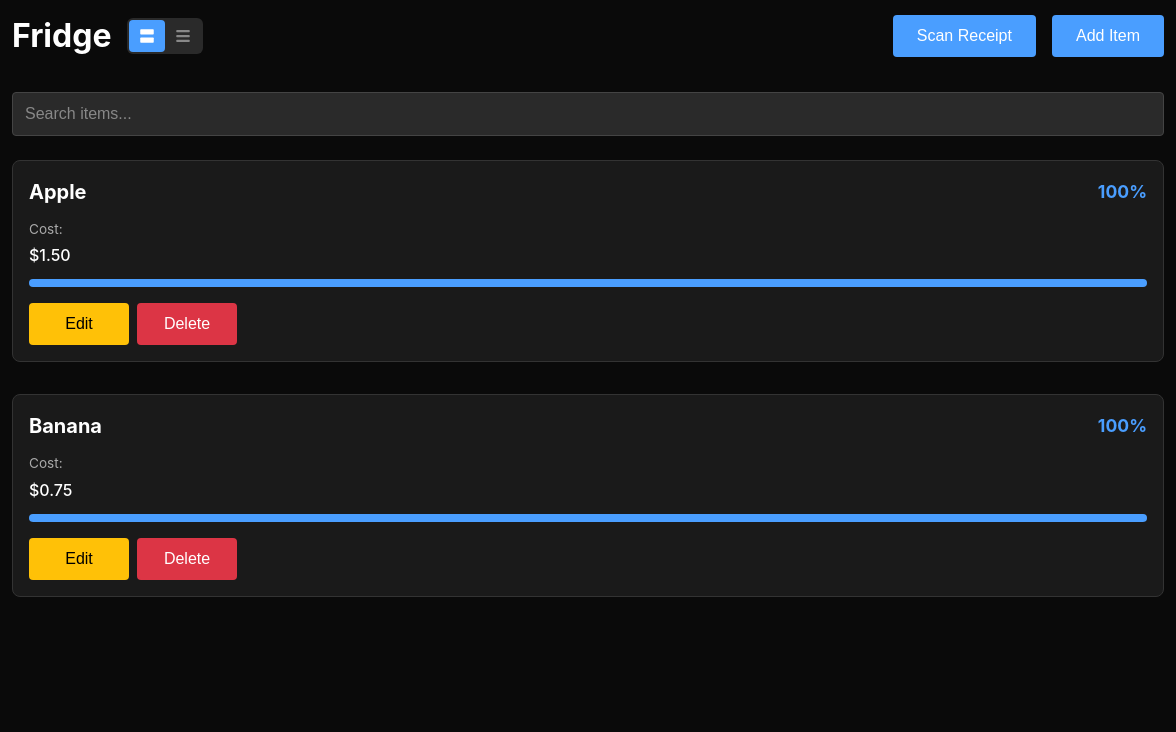
Fridge › should clear search and show all items
Expected: the heading "Apple" is shown, [29,177,86,207]
Expected: the heading "Banana" is shown, [29,411,102,441]
Step 1. Type "Apple" into the field with placeholder "Search items..." → (588, 114), box [12,92,1164,136]
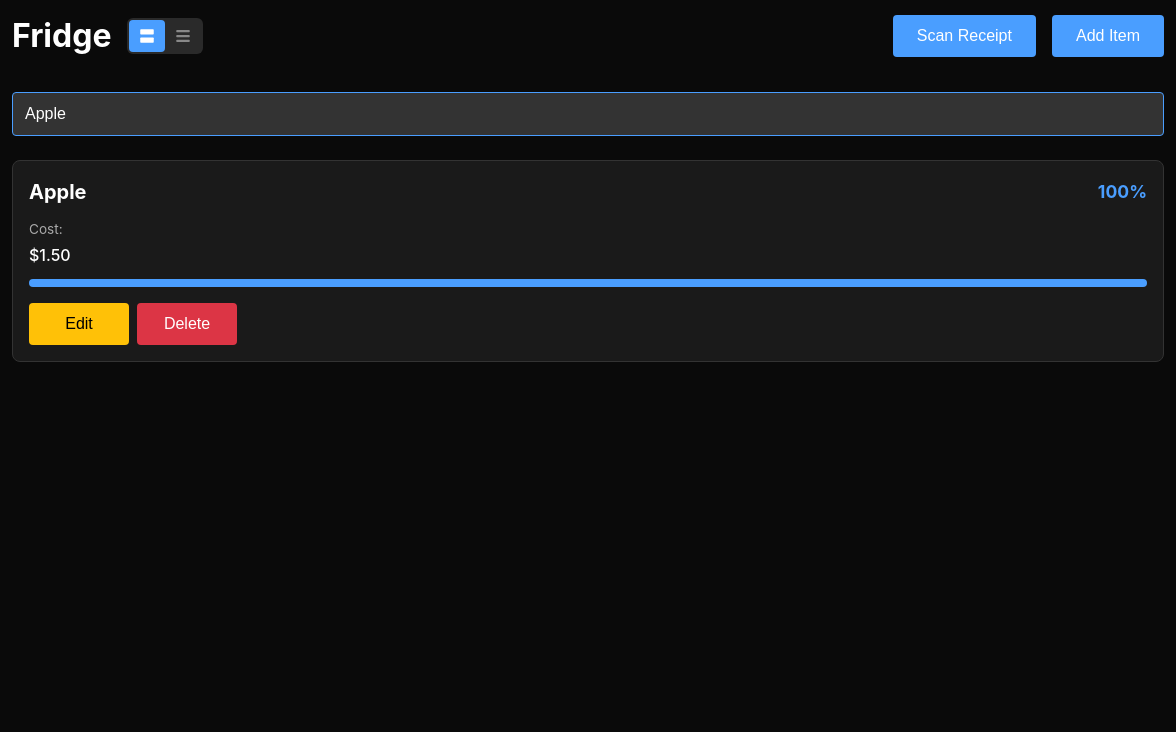
Expected: the heading "Apple" is shown, [29,177,86,207]
Expected: the heading "Banana" is gone
// Clear search
Step 2. Clear the field with placeholder "Search items..." → (588, 114), box [12,92,1164,136]
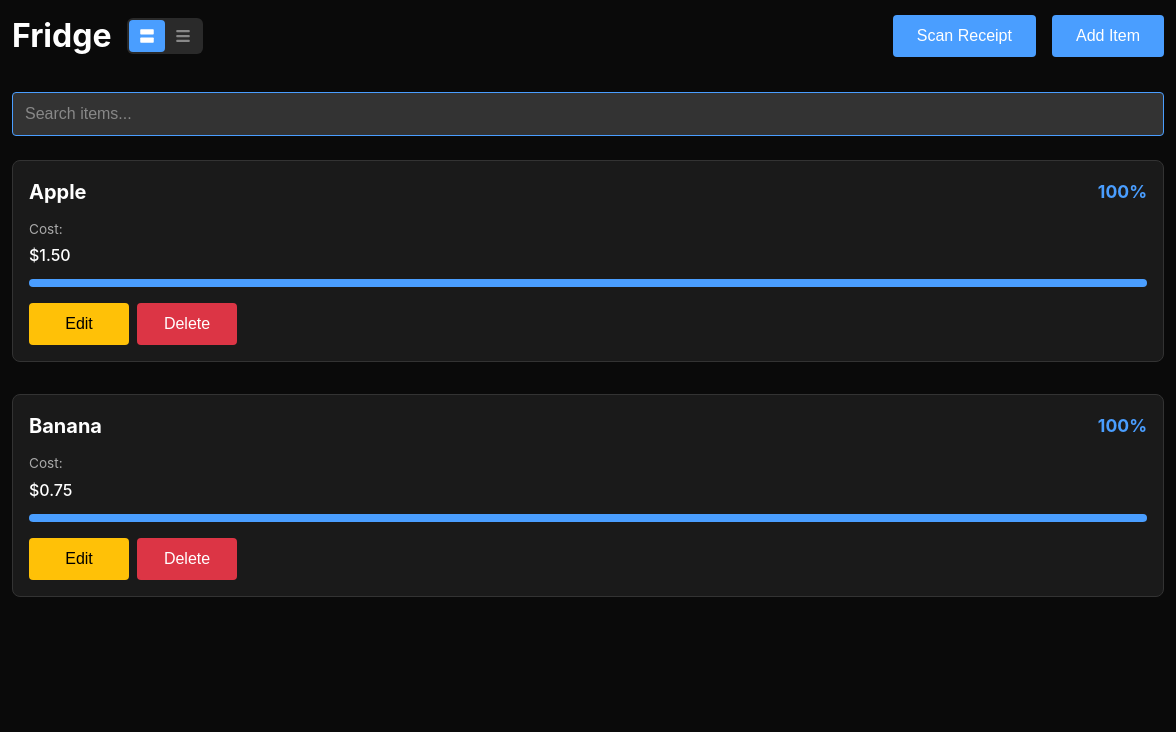
Expected: the heading "Apple" is shown, [29,177,86,207]
Expected: the heading "Banana" is shown, [29,411,102,441]
